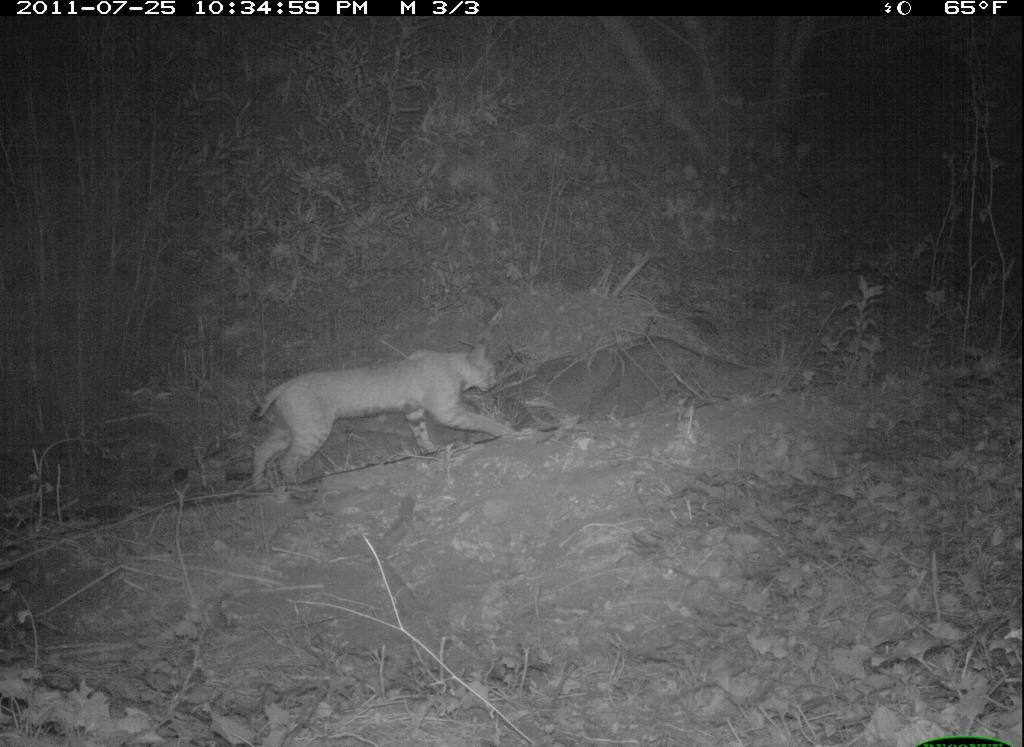bobcat: (223, 333, 536, 506)
